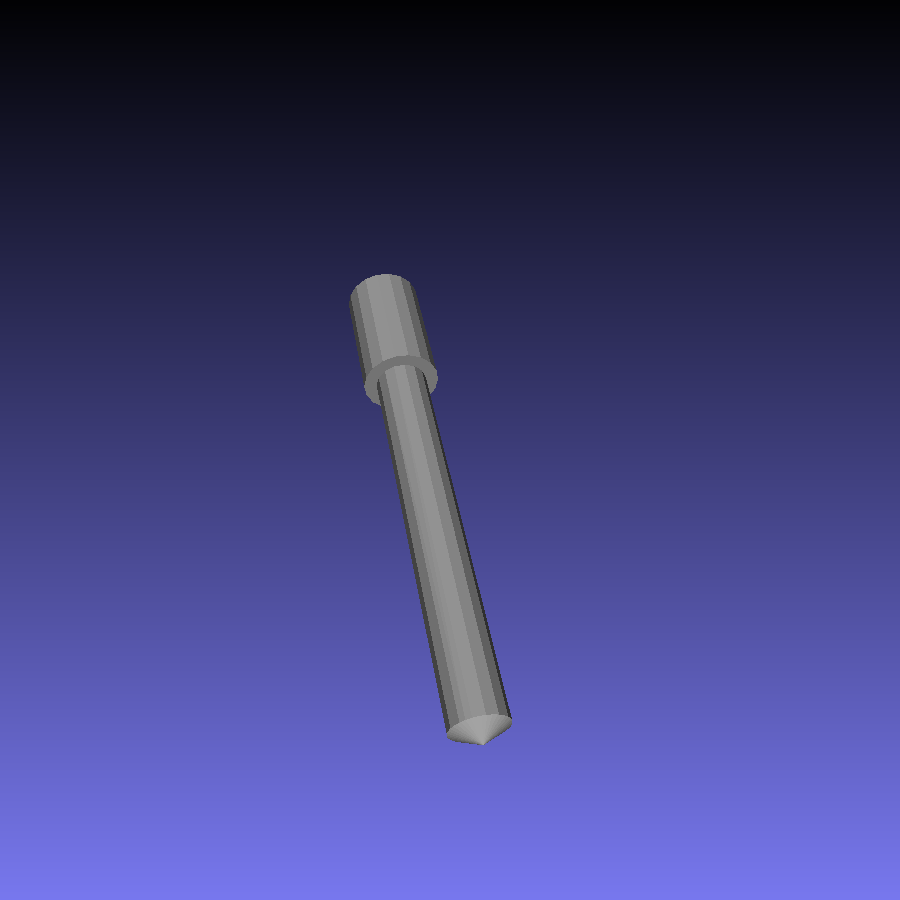cargo_g: (349, 271, 514, 747)
